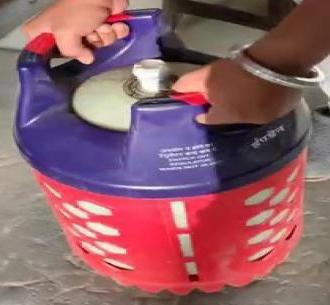cylinder: (1, 0, 330, 305)
